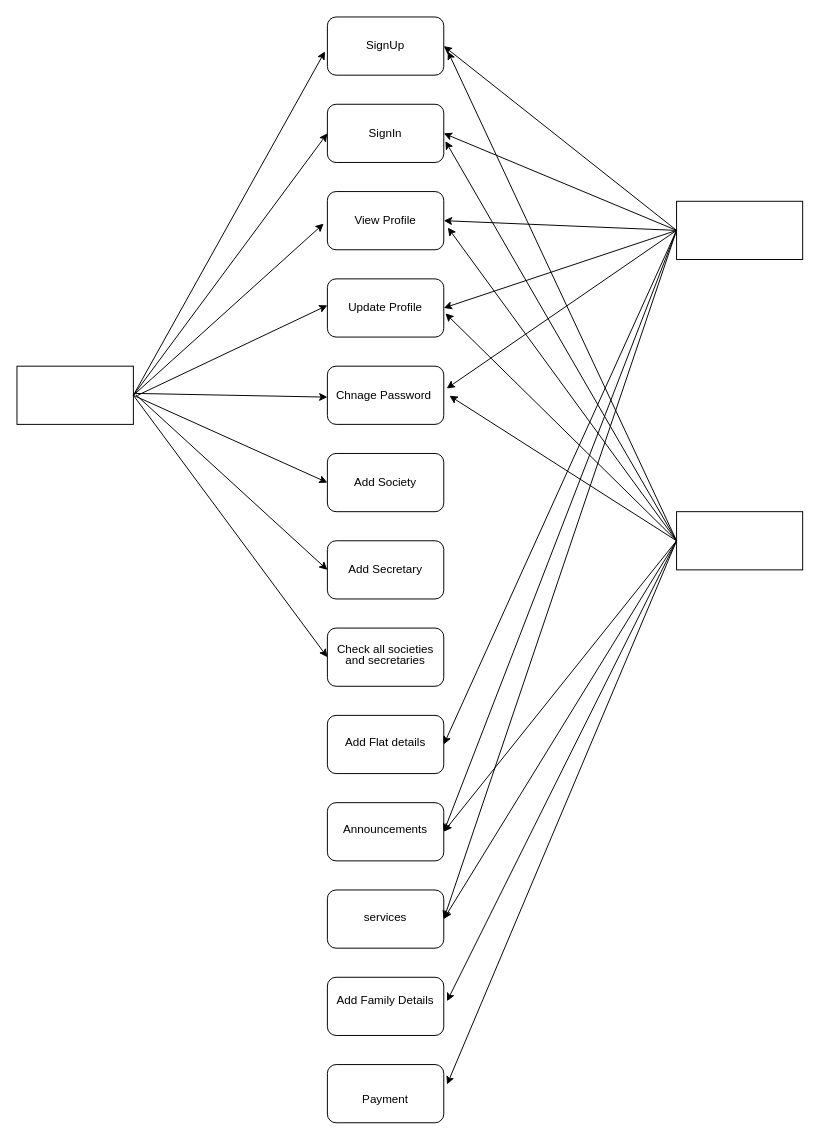
This 820x1140 diagram has some shape labels left out. Here are the shapes that lost their labels. From the top down, the centre of each, then its label:
At point (739, 229): "Secretary".
At point (74, 394): "Admin".
At point (739, 540): "Society Member".
